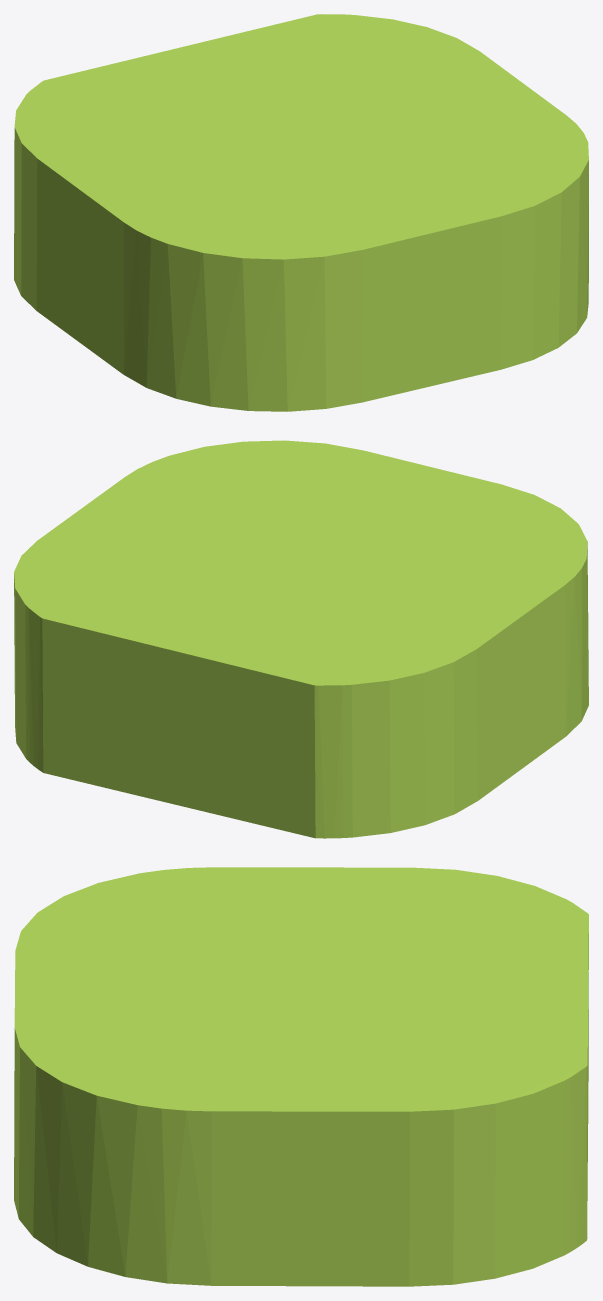
The model's file is niryo_Link_6_coll_1.dae.
3 views of the same model, one above another, from view 1: azimuth 30°, elevation 25°; view 2: azimuth 150°, elevation 25°; view 3: azimuth 270°, elevation 25° (orthographic). The views are drawn at different scales.
Visible parts, largest first — view 1: Node_000001B04DB52530; view 2: Node_000001B04DB52530; view 3: Node_000001B04DB52530.
Part boxes in pixels (<box>): Node_000001B04DB52530: <box>14,14,588,411</box>; Node_000001B04DB52530: <box>14,440,588,838</box>; Node_000001B04DB52530: <box>14,867,588,1286</box>.
Size of the model in its own units: 0.0351 by 0.0117 by 0.0348.
